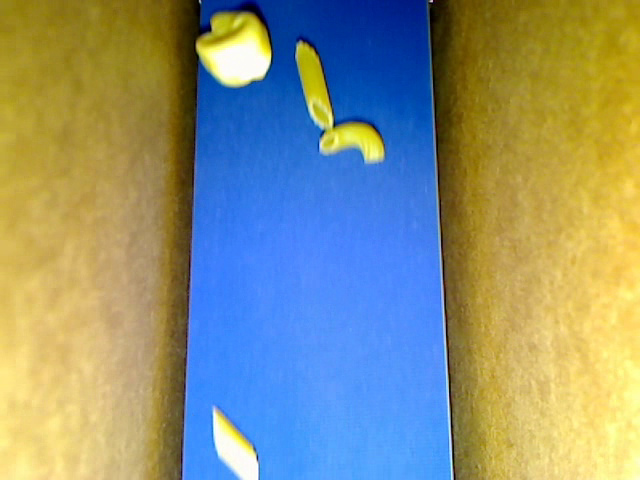elbow: (319, 120, 385, 163)
penne: (294, 40, 332, 131), (212, 406, 258, 479)
tortellini: (195, 12, 271, 87)
